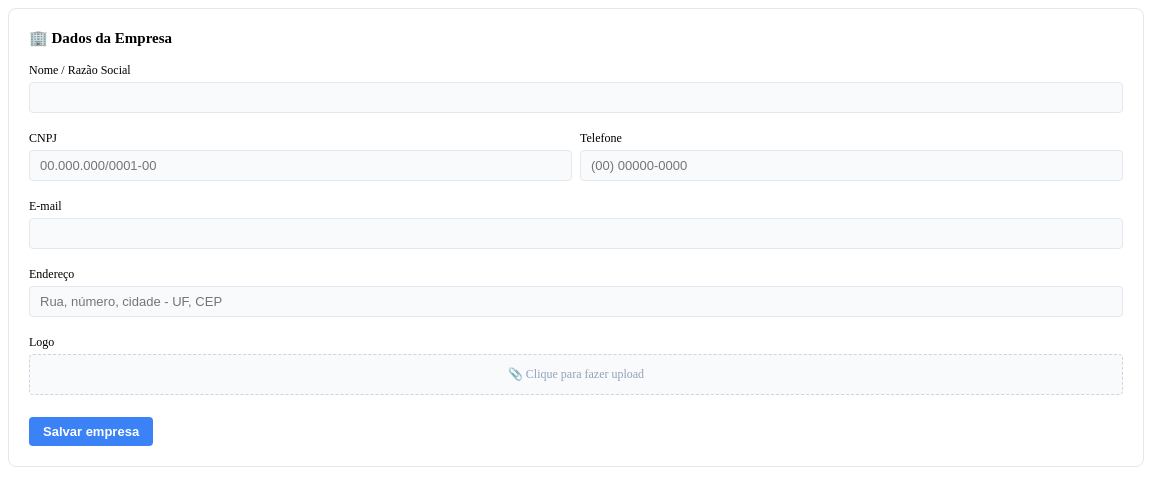
Test: EmpresaCard — validação › shows error when name is empty
expect the button "Salvar empresa" is shown: met, box [29,417,153,446]
Clear the field below "Nome / Razão Social" at (576,98), box [29,82,1123,113]
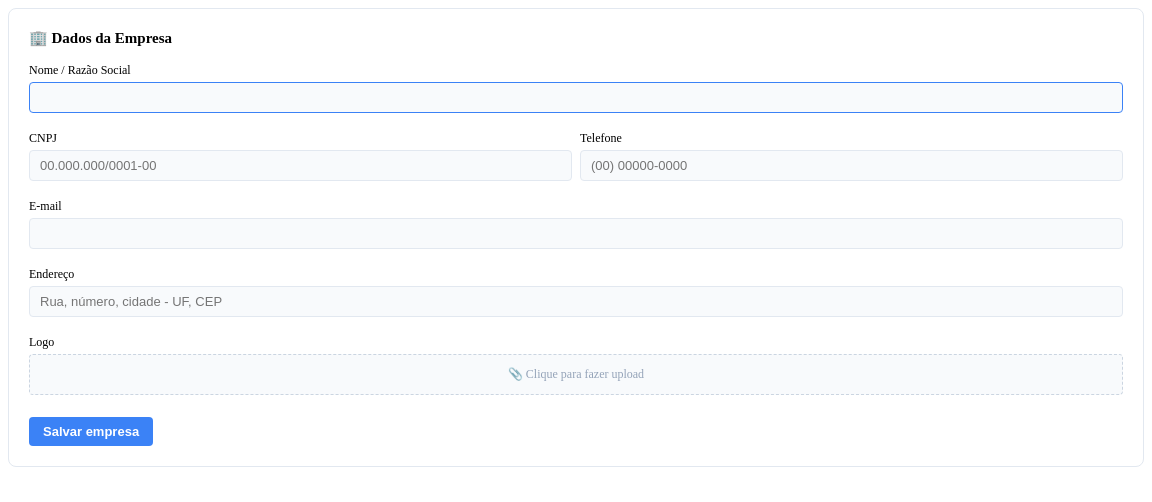
Click the button "Salvar empresa" at (91,432), box [29,417,153,446]
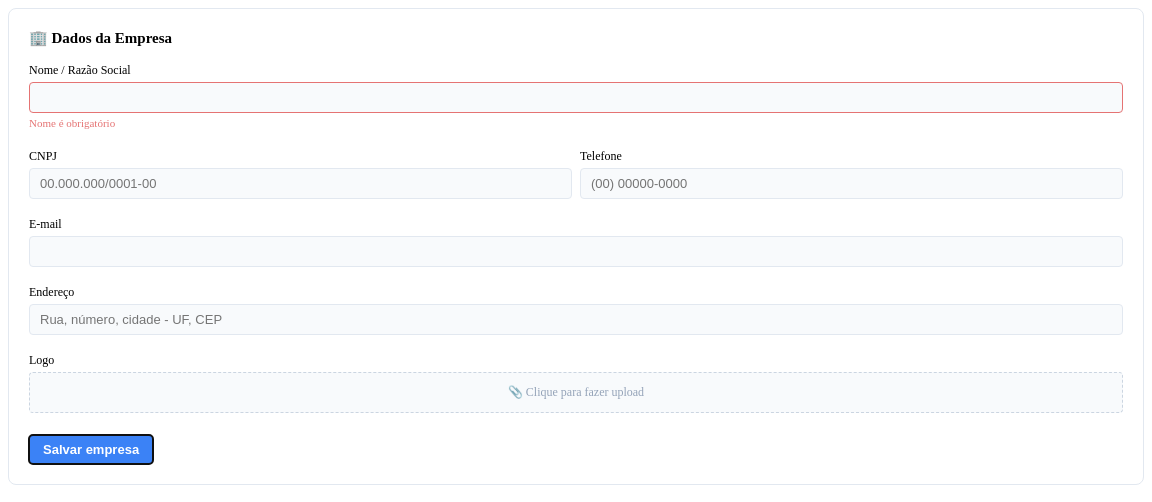
expect the text "Nome é obrigatório" is shown: met, box [29,117,115,129]
